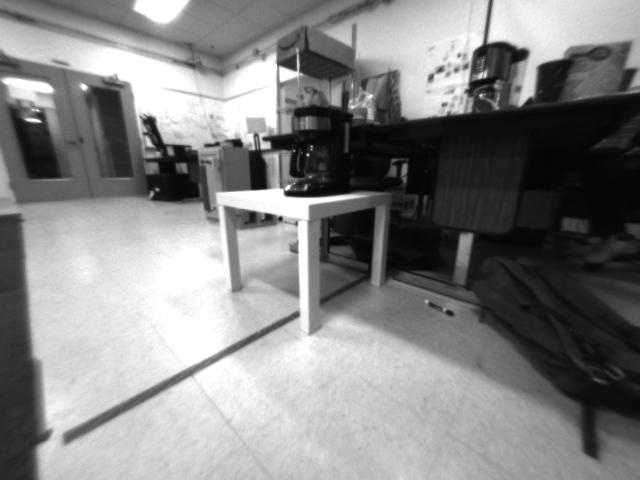coffee_pot: (284, 105, 357, 198)
